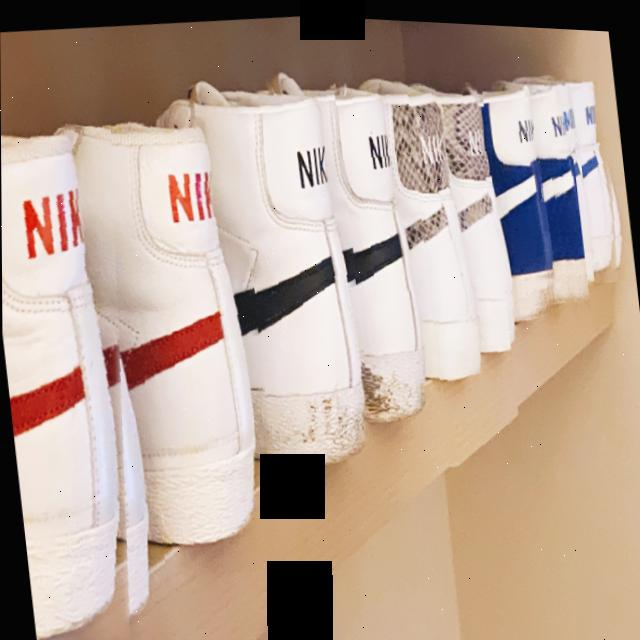shoe: (1, 119, 167, 640), (115, 108, 285, 573), (223, 68, 380, 499), (393, 71, 523, 466), (334, 80, 449, 475), (495, 88, 560, 340), (535, 73, 592, 323), (572, 69, 628, 279)
